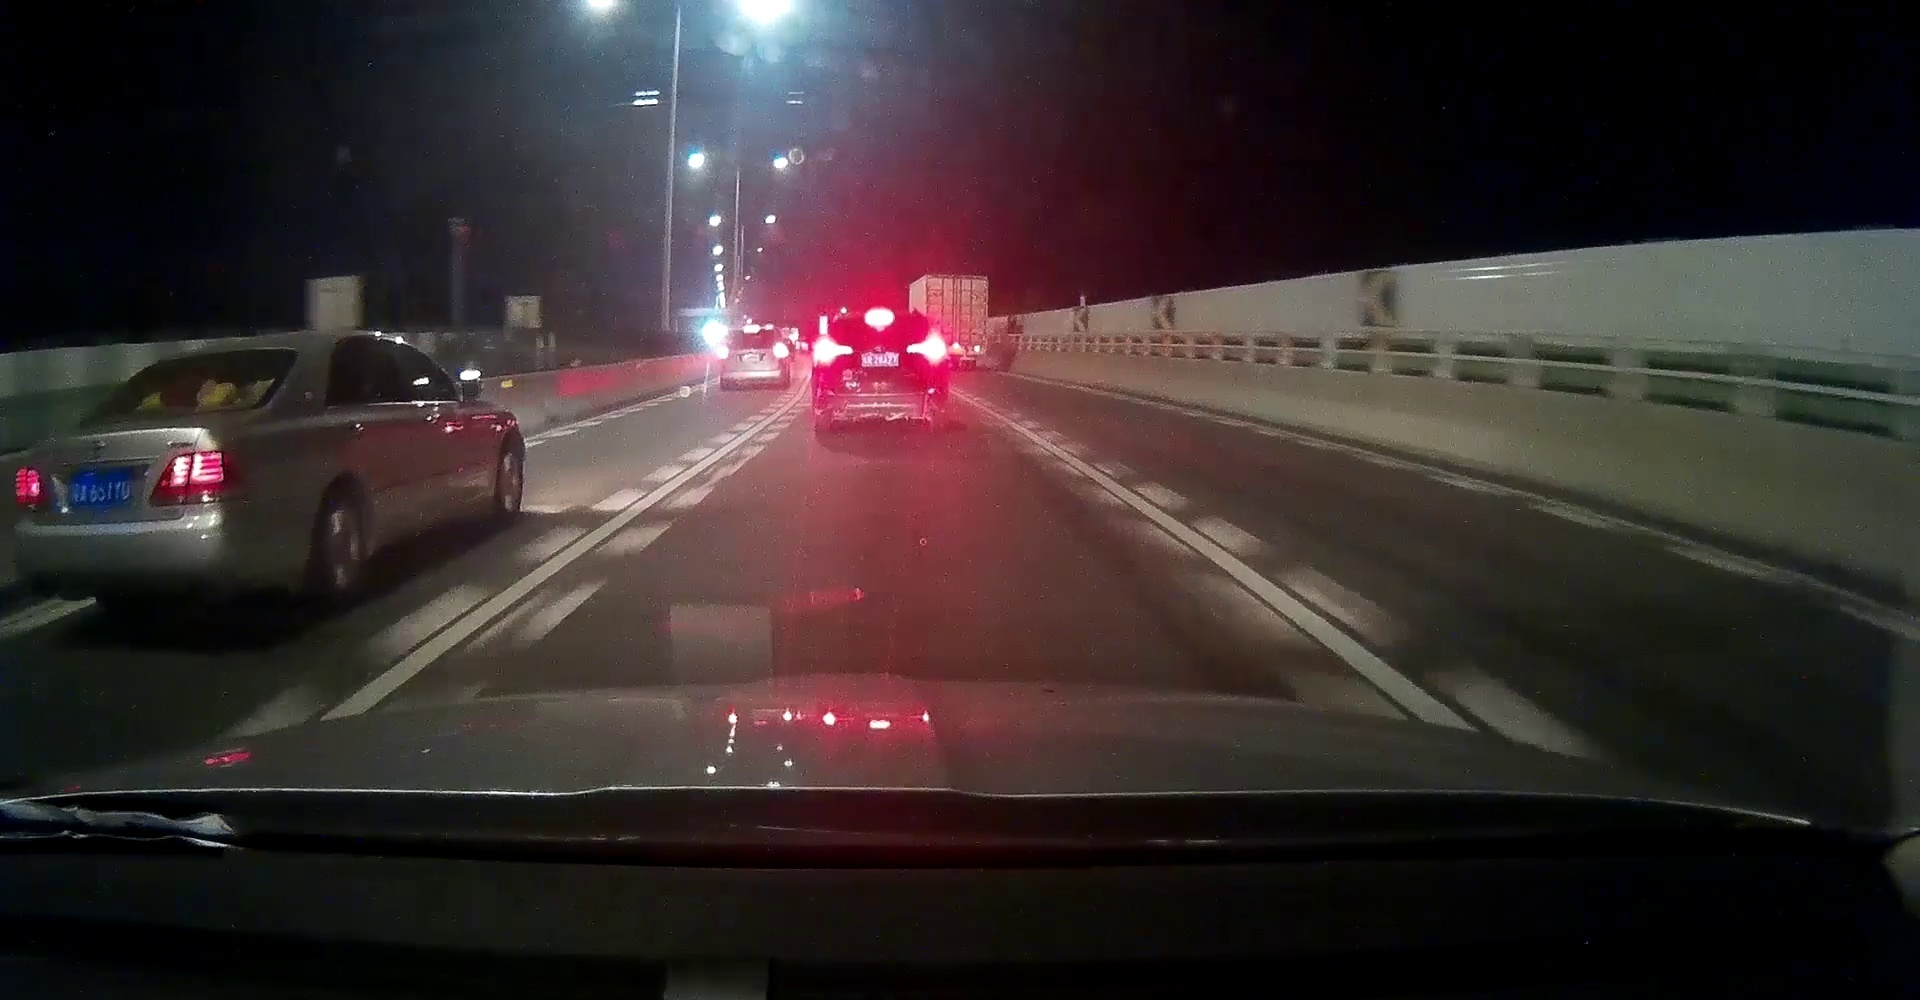L_light: (13, 467, 47, 506), (817, 345, 852, 360), (721, 348, 728, 359)
R_light: (151, 449, 239, 508), (907, 343, 943, 358), (777, 348, 782, 359)
T_light: (193, 354, 231, 362), (867, 316, 894, 324), (744, 329, 758, 334)
night-brake: (811, 313, 946, 435), (720, 327, 783, 388)
night-no: (11, 338, 300, 622)
